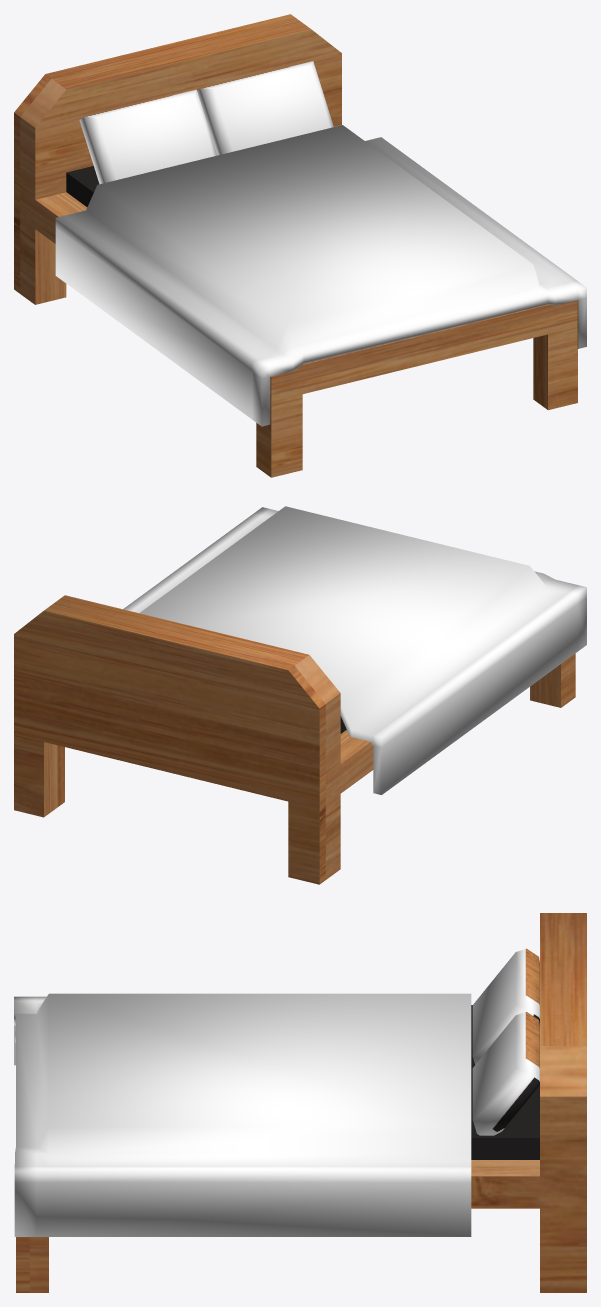
File: bed.fbx
The picture shows the model from 3 angles, top to bottom: view 1: azimuth 30°, elevation 25°; view 2: azimuth 150°, elevation 25°; view 3: azimuth 270°, elevation 25°; orthographic projection. The views are drawn at different scales.
Visible parts, largest first — view 1: pCube1, pCube3, pCube2; view 2: pCube1; view 3: pCube1, pCube2, pCube3.
Part boxes in pixels (x1,y1,x2,y2): pCube1: (14, 14, 586, 477); pCube3: (79, 89, 217, 184); pCube2: (197, 61, 333, 155); pCube1: (14, 506, 586, 884); pCube1: (14, 913, 586, 1292); pCube2: (472, 1012, 539, 1135); pCube3: (472, 948, 539, 1064).
Bounding box in the file's own units: 1.88 × 1.15 × 2.58.
Materials: 1 (1 with a texture image).
